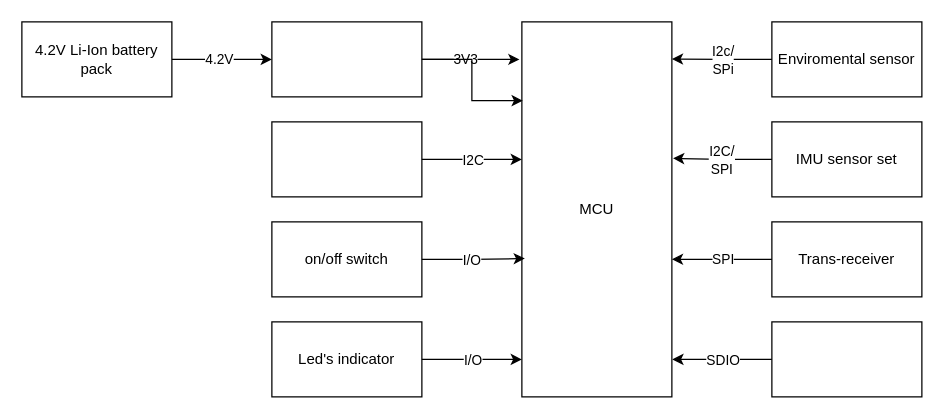
Image size: 944x419. Some labels were removed from this diagram. The shapes that lost their labels are listed below. From the top down, each one's centre as x and y in pixels, then its label:
At point (346, 59): "power monitor system and conversion system".
At point (346, 159): "Biological payload sensor (plausible)".
At point (846, 359): "micro sd card".
